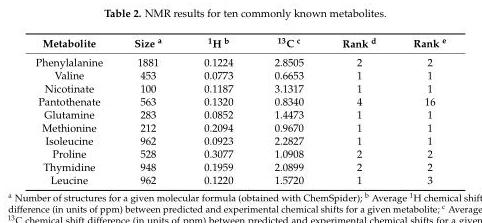table: (34, 34, 445, 185)
table column: (34, 34, 117, 185), (182, 34, 253, 185), (322, 34, 393, 185), (253, 34, 322, 185), (117, 34, 182, 185), (393, 34, 445, 185)
table column header: (34, 34, 445, 52)
table row: (34, 34, 445, 52), (34, 52, 445, 68), (34, 68, 445, 81), (34, 81, 445, 94), (34, 94, 445, 107), (34, 107, 445, 120), (34, 120, 445, 133), (34, 133, 445, 146), (34, 146, 445, 159), (34, 159, 445, 172), (34, 172, 445, 185)
